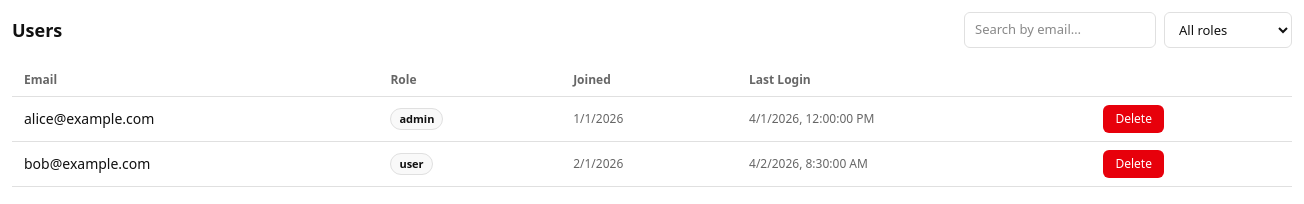
UsersPanel › filters users by role
Select "admin" in the dropdown with test id "role-filter" at (1228, 30), box top-left (1164, 12), bottom-right (1292, 48)
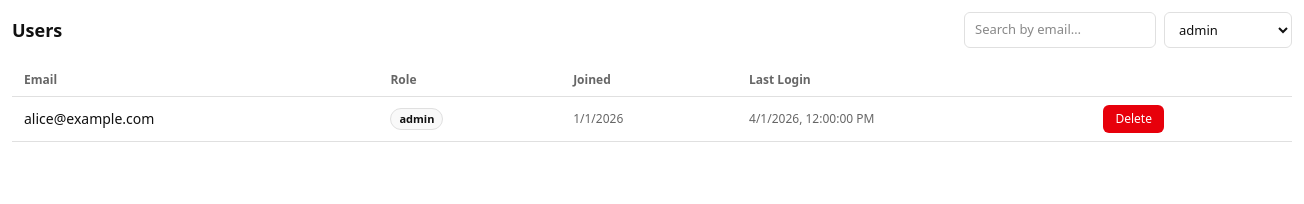
Check: the text "alice@example.com" is shown, box top-left (12, 96), bottom-right (378, 142)
Check: the text "bob@example.com" is gone
